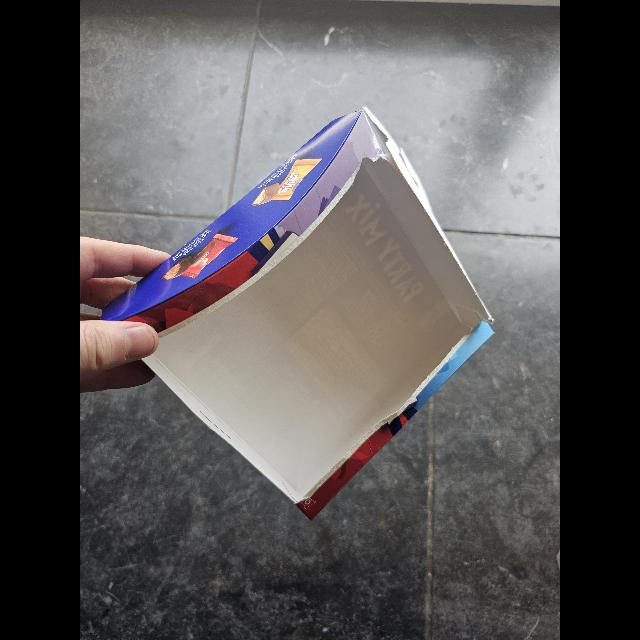Cardboard: (100, 98, 500, 518)
